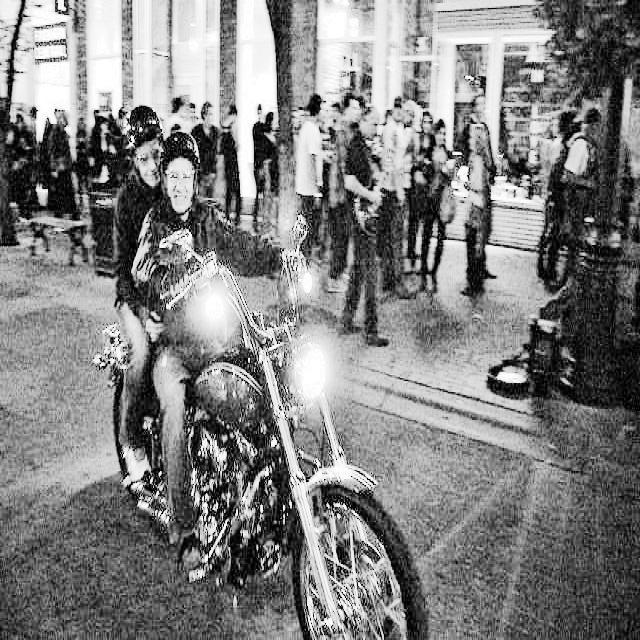Motorcycle: (97, 204, 435, 640)
Person: (140, 125, 307, 589), (104, 76, 208, 505), (343, 99, 400, 329), (563, 102, 610, 318), (415, 110, 460, 285), (459, 92, 499, 262), (464, 122, 489, 304), (49, 104, 82, 224)
